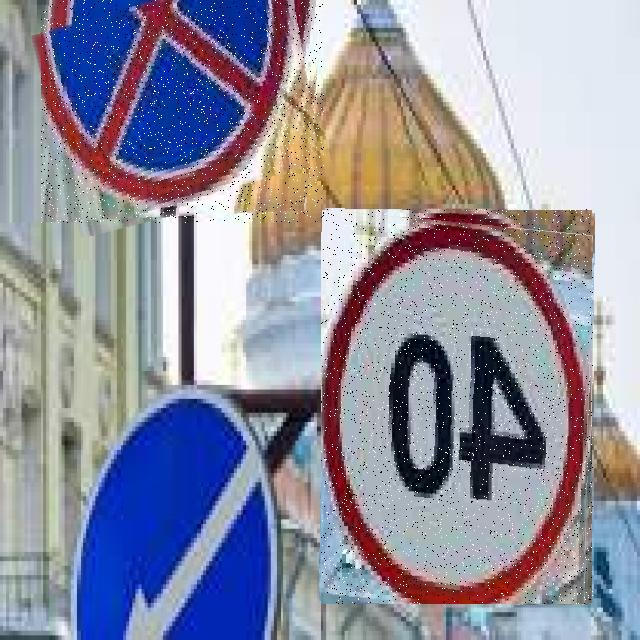no stopping: (41, 0, 324, 223)
speed limit 40: (321, 209, 593, 604)
